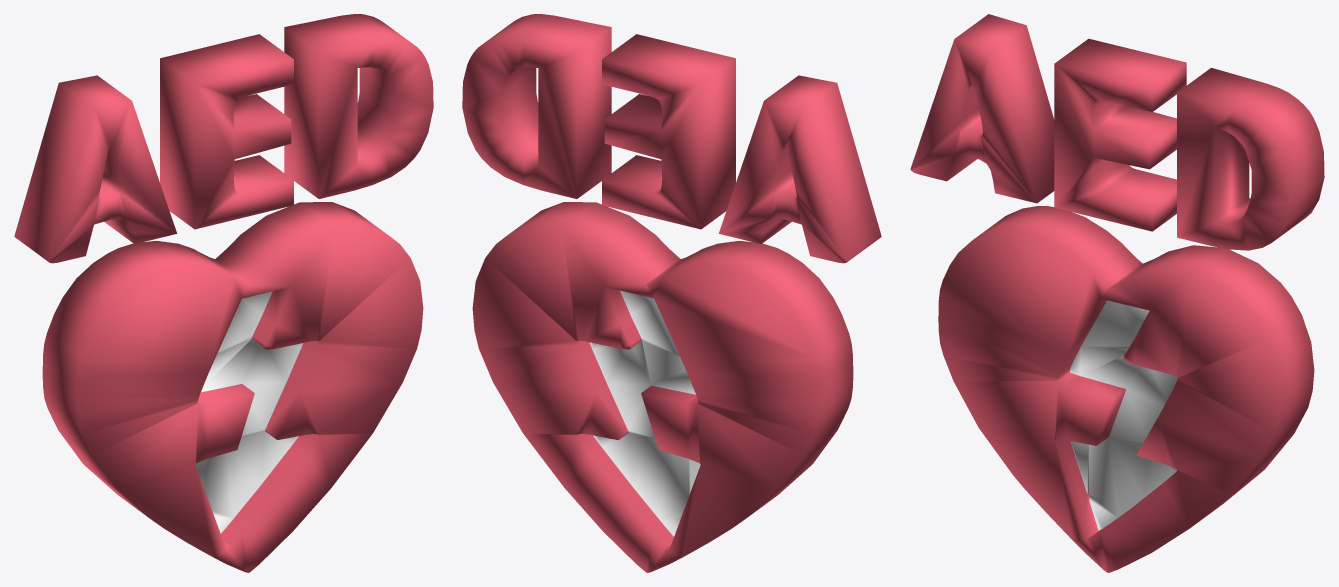
File: aed.fbx
3 views of the same model, side by side, from view 1: azimuth 30°, elevation 25°; view 2: azimuth 150°, elevation 25°; view 3: azimuth 330°, elevation 25° (orthographic).
Parts seen in each view (by area): view 1: obj_0; view 2: obj_0; view 3: obj_0.
Part boxes in pixels (left/top/right/bottom): obj_0: left=14, top=14, right=433, bottom=572; obj_0: left=462, top=14, right=881, bottom=572; obj_0: left=910, top=14, right=1324, bottom=572.
Size of the model in its own units: 3200 by 4000 by 500.
